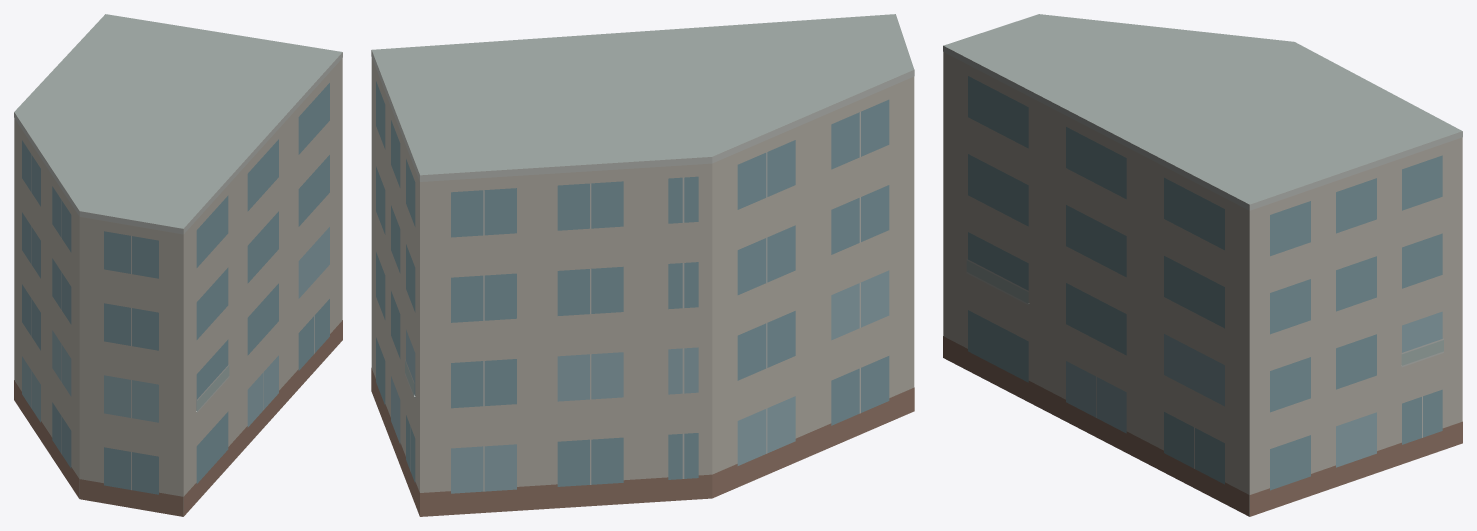
File: survey-upis-32742498.glb
3 views of the same model, side by side, from view 1: azimuth 30°, elevation 25°; view 2: azimuth 150°, elevation 25°; view 3: azimuth 270°, elevation 25° (orthographic). The views are drawn at different scales.
Parts seen in each view (by area): view 1: survey-upis-32742498.tmp; view 2: survey-upis-32742498.tmp; view 3: survey-upis-32742498.tmp.
Boxes of the visible parts, x1,y1,x2,y2 form: survey-upis-32742498.tmp: [14, 14, 342, 516]; survey-upis-32742498.tmp: [371, 14, 914, 516]; survey-upis-32742498.tmp: [943, 14, 1462, 516].
Bounding box in the file's own units: 16.25 × 12.4 × 18.71.
